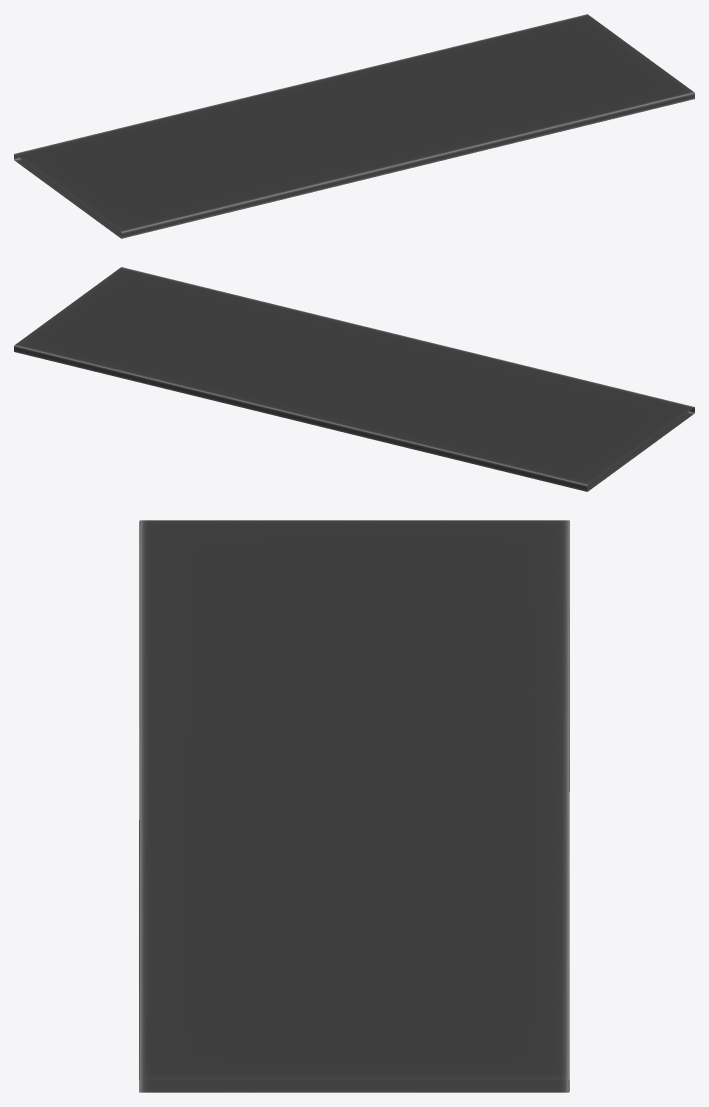
The model's file is 3D_Track_Straight_Large_3.FBX.
3 renders of one model, top to bottom at view 1: azimuth 30°, elevation 25°; view 2: azimuth 150°, elevation 25°; view 3: azimuth 270°, elevation 25°, orthographic. The views are drawn at different scales.
Visible parts, largest first — view 1: 3D_Track_Straight_Large_3; view 2: 3D_Track_Straight_Large_3; view 3: 3D_Track_Straight_Large_3.
Boxes of the visible parts, x1=… form: 3D_Track_Straight_Large_3: x1=14, y1=14, x2=694, y2=238; 3D_Track_Straight_Large_3: x1=14, y1=267, x2=694, y2=491; 3D_Track_Straight_Large_3: x1=139, y1=520, x2=569, y2=1092.
Bounding box in the file's own units: 461 × 5 × 150.
